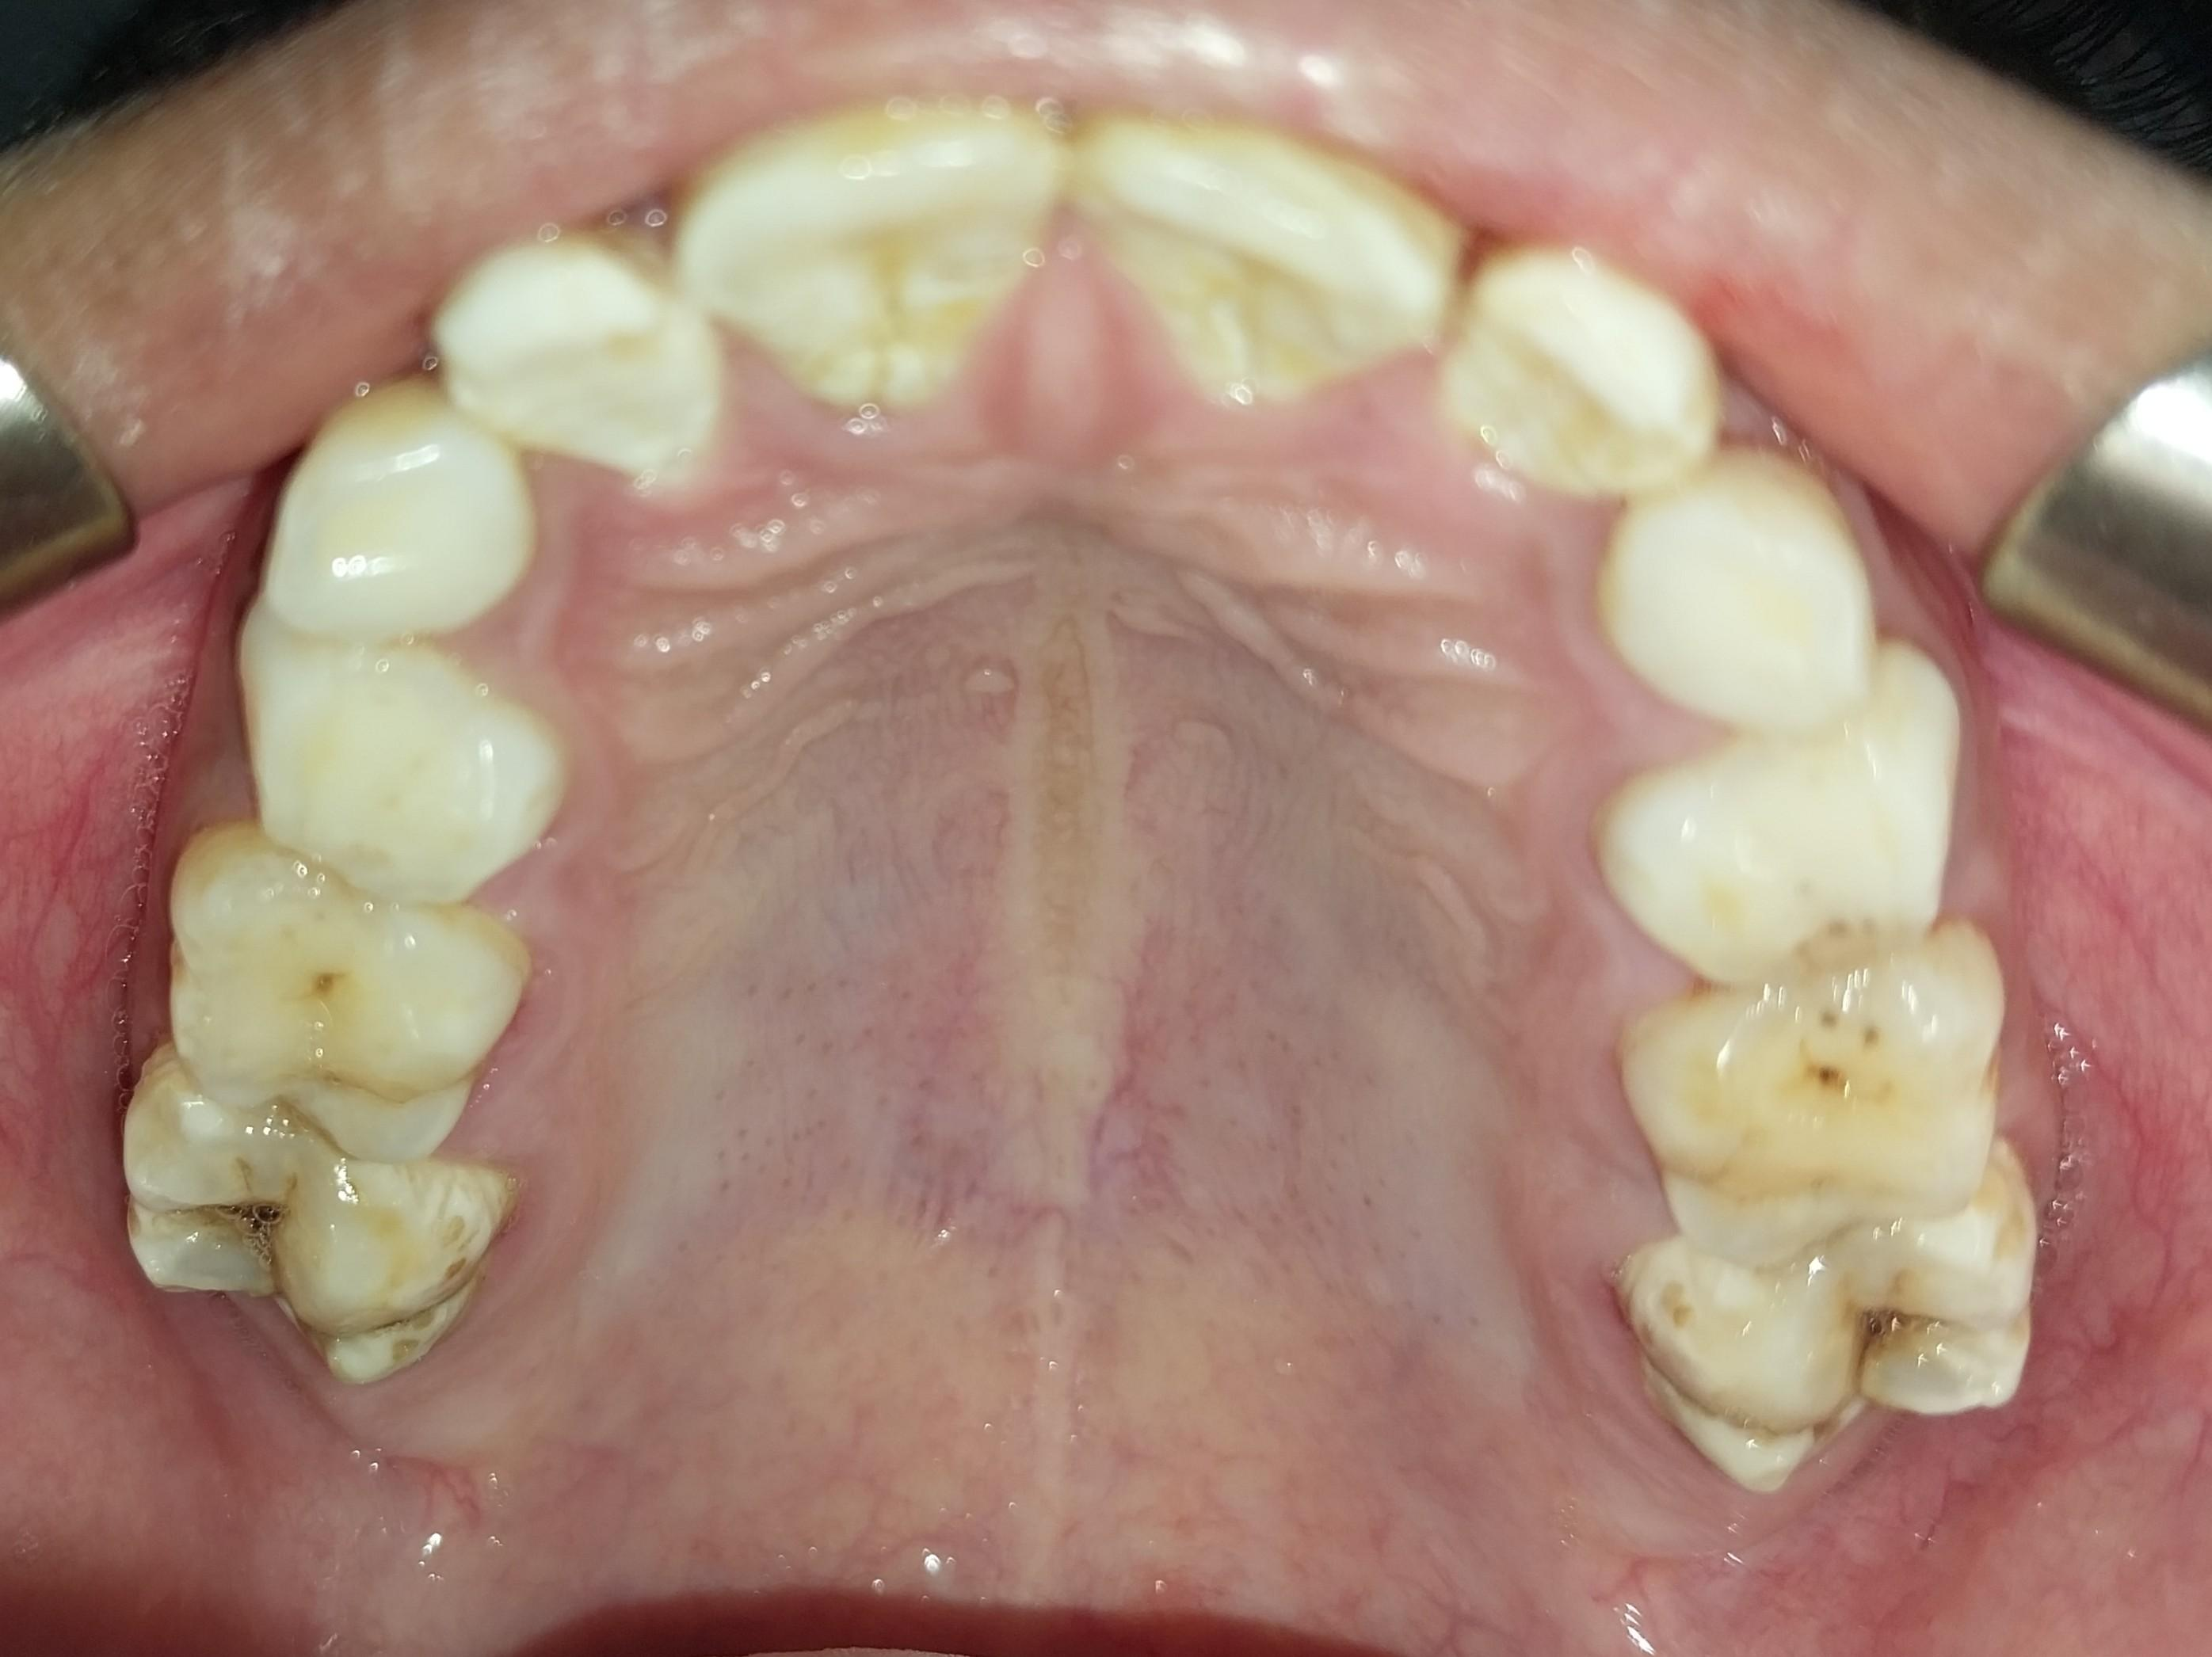D: (86, 819, 532, 1158)
